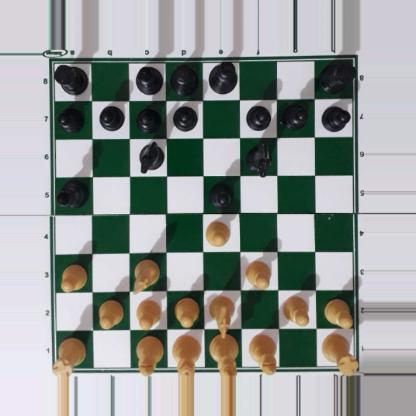black-bishop: (54, 178, 89, 208), (133, 64, 165, 93)
black-king: (207, 58, 239, 95)
black-knight: (246, 141, 272, 176), (138, 141, 163, 171)
black-pawn: (321, 103, 349, 132), (208, 180, 234, 208), (172, 103, 196, 132), (57, 106, 84, 131), (246, 102, 271, 129), (283, 101, 307, 129), (136, 105, 160, 133), (99, 104, 123, 131)
black-queen: (169, 62, 199, 98)
black-rook: (51, 62, 88, 95), (320, 57, 354, 92)
white-bishop: (247, 334, 279, 377), (135, 335, 162, 373)
white-king: (208, 332, 239, 377)
white-knight: (208, 294, 235, 338), (131, 257, 158, 292)
white-pawn: (324, 296, 352, 327), (283, 294, 310, 326), (58, 263, 87, 291), (244, 259, 271, 289), (173, 297, 199, 327), (135, 298, 161, 328), (97, 298, 123, 327), (204, 219, 230, 246)
white-queen: (171, 334, 202, 377)
white-rook: (323, 332, 356, 376), (54, 333, 85, 377)
